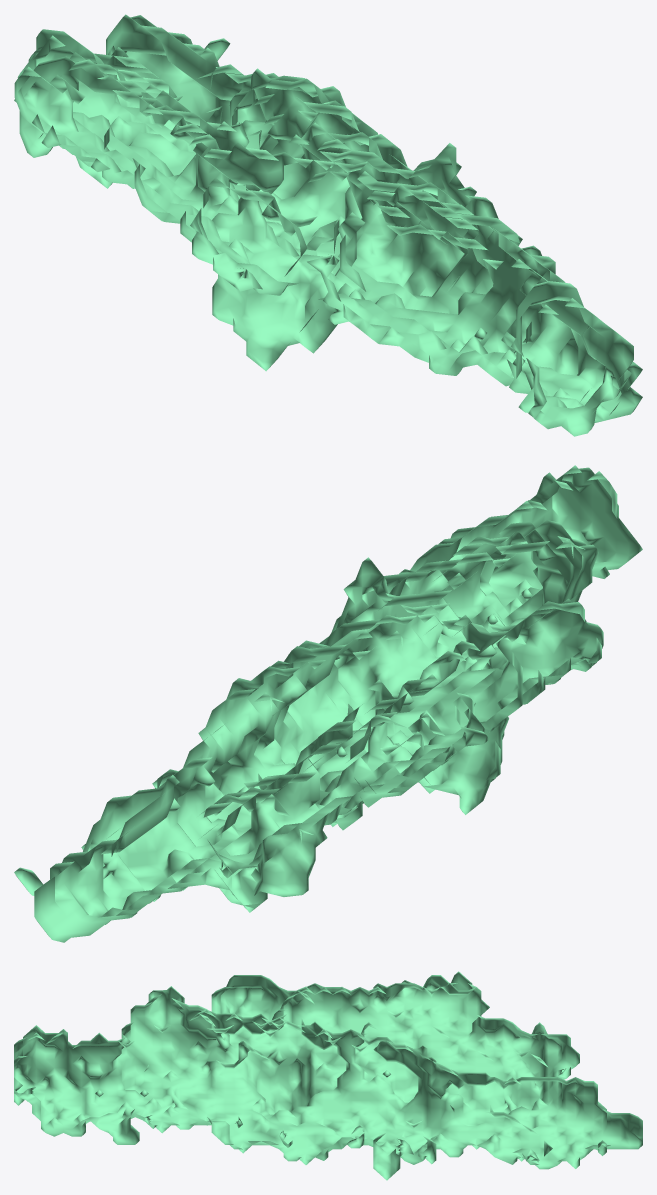
The model's file is osteocyte_24.glb.
3 renders of one model, top to bottom at view 1: azimuth 30°, elevation 25°; view 2: azimuth 150°, elevation 25°; view 3: azimuth 270°, elevation 25°, orthographic. The views are drawn at different scales.
Parts seen in each view (by area): view 1: osteocyte_24; view 2: osteocyte_24; view 3: osteocyte_24.
Part boxes in pixels (box(x1,y1,x2,y2)): osteocyte_24: box(14, 14, 642, 436); osteocyte_24: box(14, 465, 642, 942); osteocyte_24: box(14, 971, 642, 1180).
Size of the model in its own units: 13 by 8.18 by 33.7.
